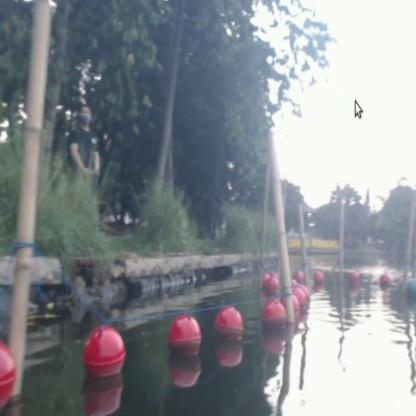green_buoy: (404, 278, 415, 304)
red_buoy: (84, 326, 122, 378), (168, 316, 200, 362), (262, 300, 286, 338), (0, 342, 14, 404), (219, 312, 240, 350), (298, 286, 310, 312), (265, 272, 279, 294), (313, 270, 325, 288), (380, 270, 390, 290), (293, 294, 299, 318)
